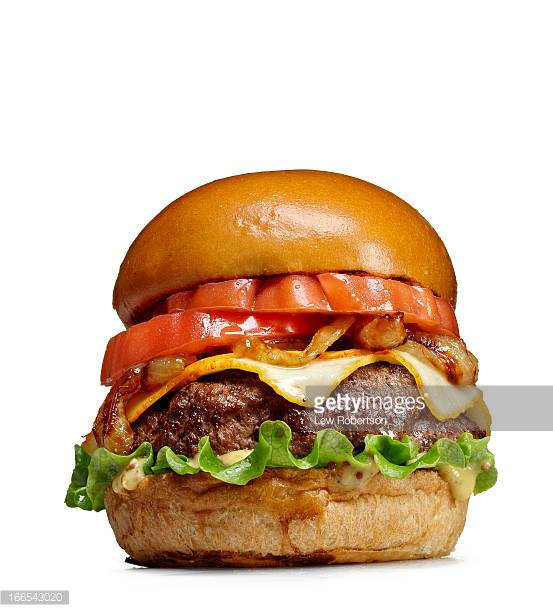hamburger: (71, 161, 507, 607)
